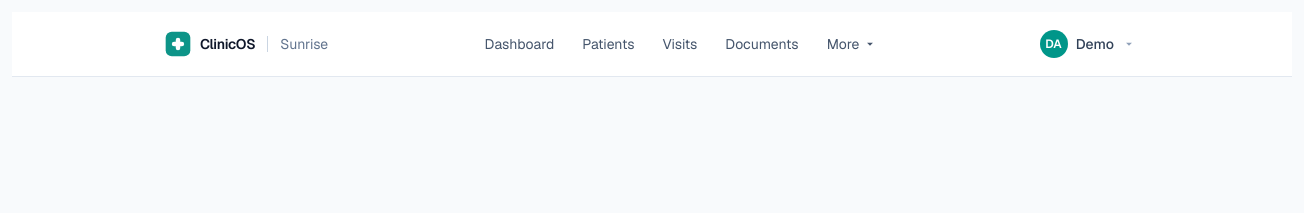
NavShell › shows the signed-in user and a sign-out control when a session is given
The image size is (1304, 213).
expect the text "Demo" is shown: met, box [1076, 34, 1114, 54]
What coordinates should you click on to do the following:
click the button with aria-label "Account menu"
I would click on:
 (1087, 44)
Its box is [1034, 24, 1140, 64].
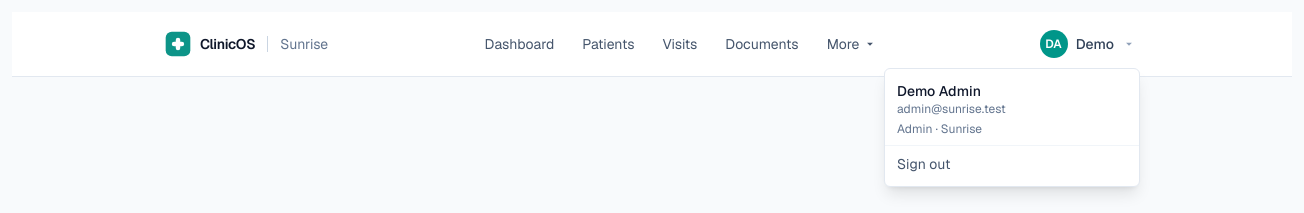
expect the text "Demo Admin" is shown: met, box [897, 82, 981, 100]
expect the text "admin@sunrise.test" is shown: met, box [897, 101, 1006, 117]
expect the text "Admin · Sunrise" is shown: met, box [897, 121, 982, 137]
